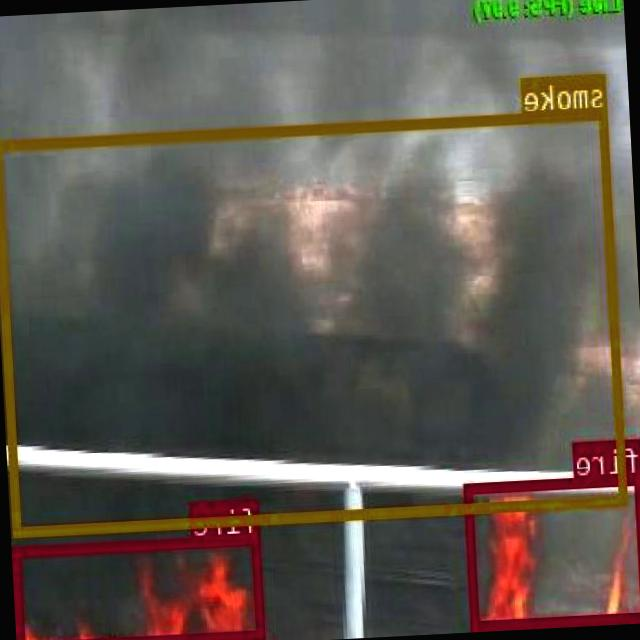fire: (467, 474, 640, 628), (15, 534, 266, 640)
smoke: (0, 109, 629, 536)
